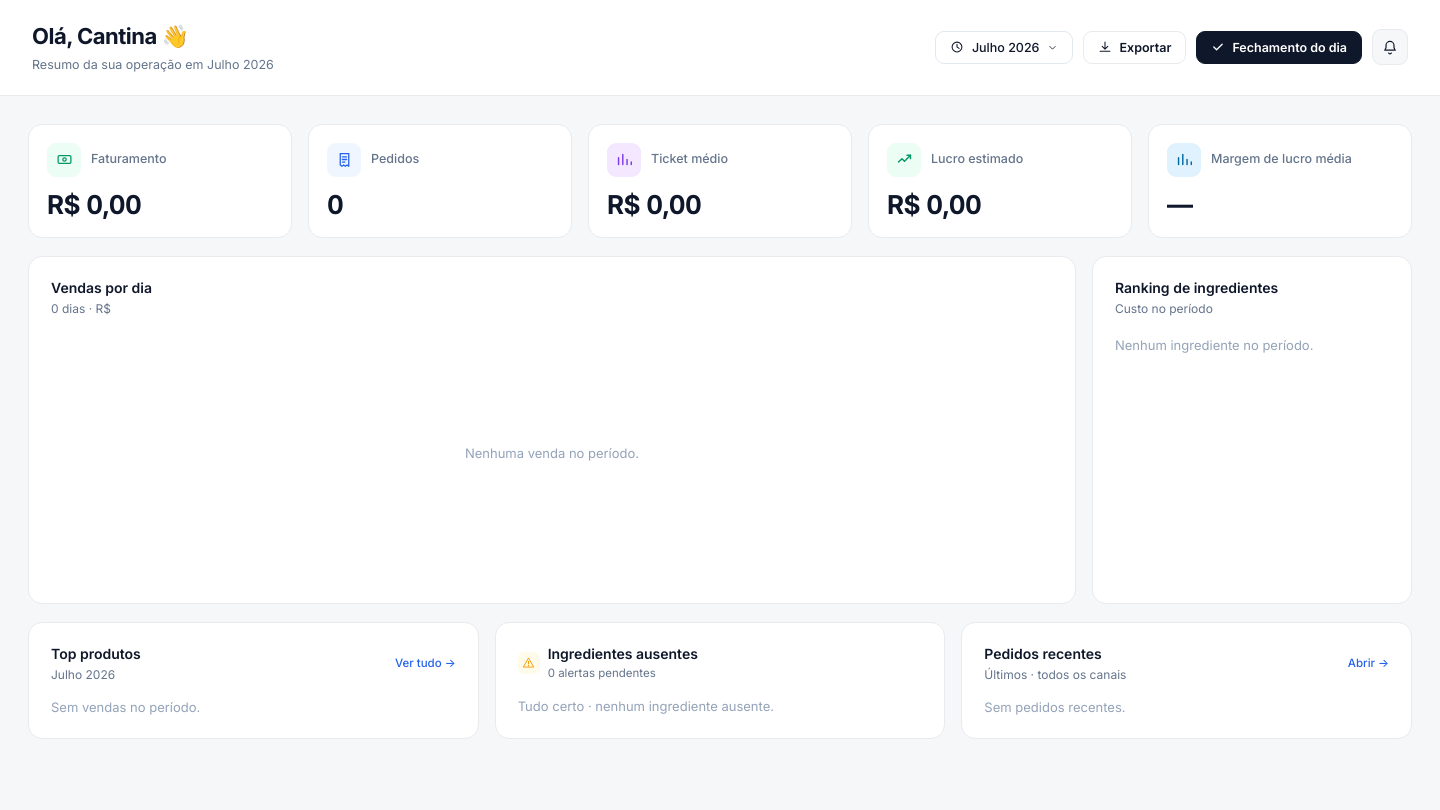
Scenario: DashboardView — seletor de período › intervalo personalizado › o subtítulo passa a exibir o intervalo selecionado
Click the button with test id "period-picker-toggle" at [1004, 47], box [935,31,1074,64]
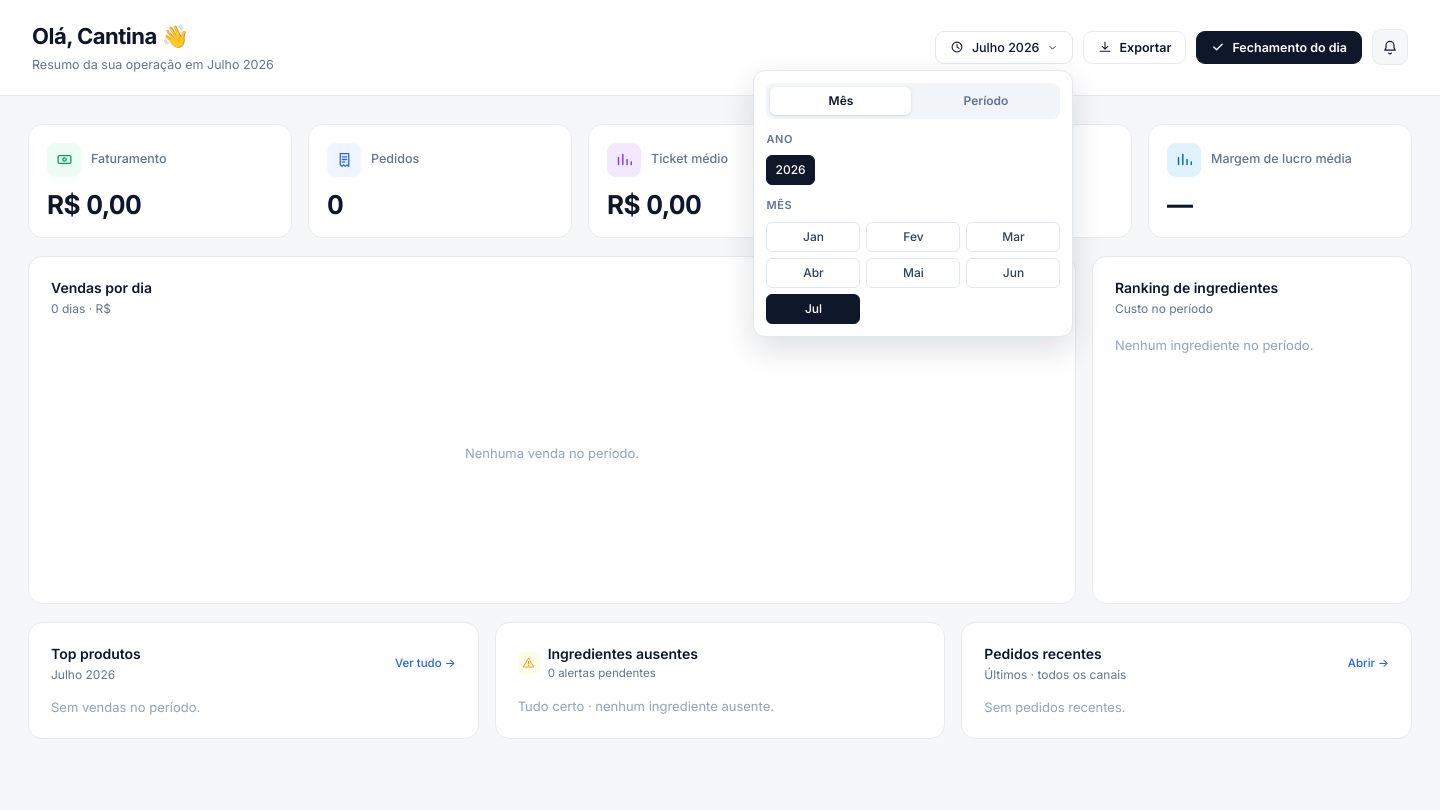
Click the button with test id "period-tab-custom" at [986, 101], box [916,87,1056,115]
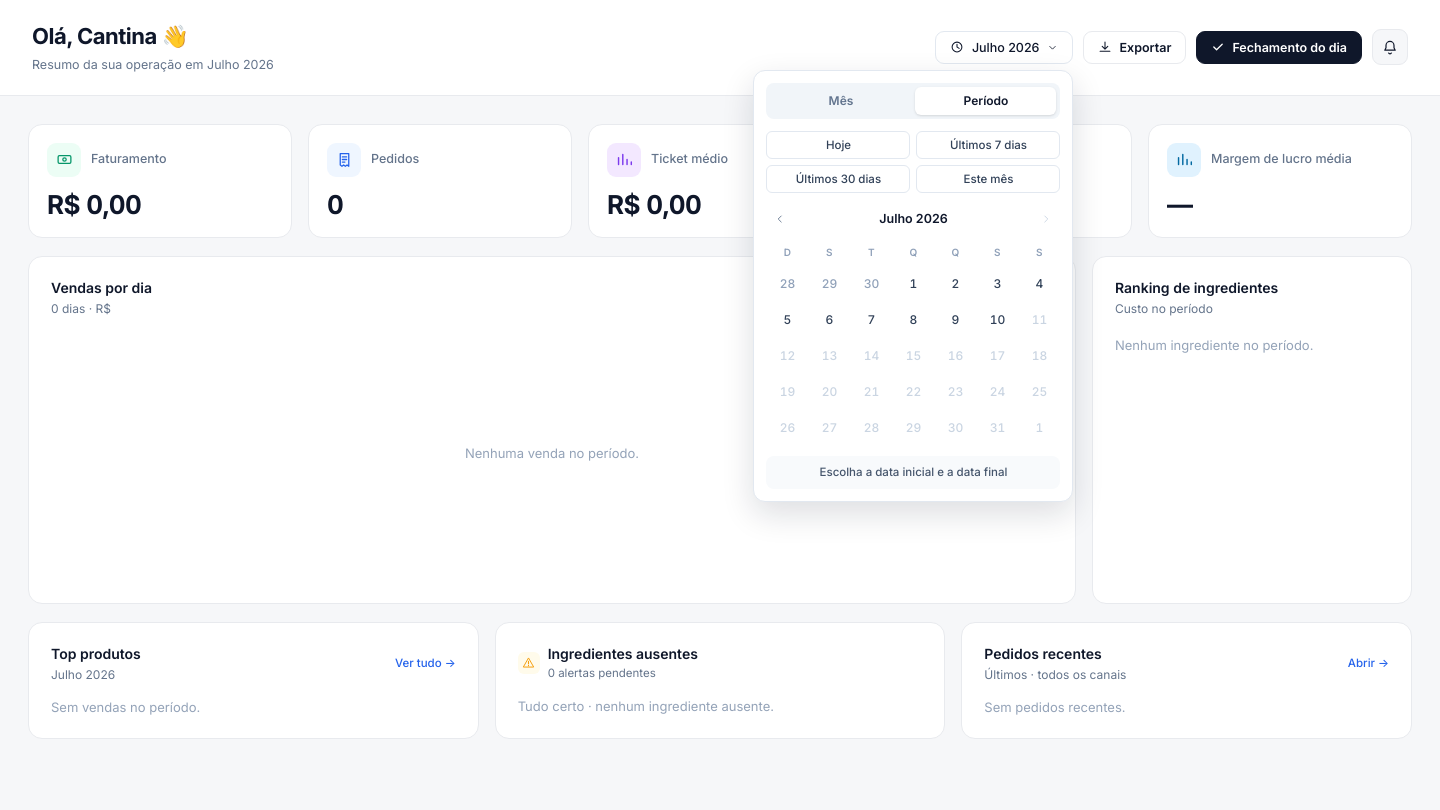
Click the button with test id "period-calendar-prev" at [780, 219], box [766,205,794,233]
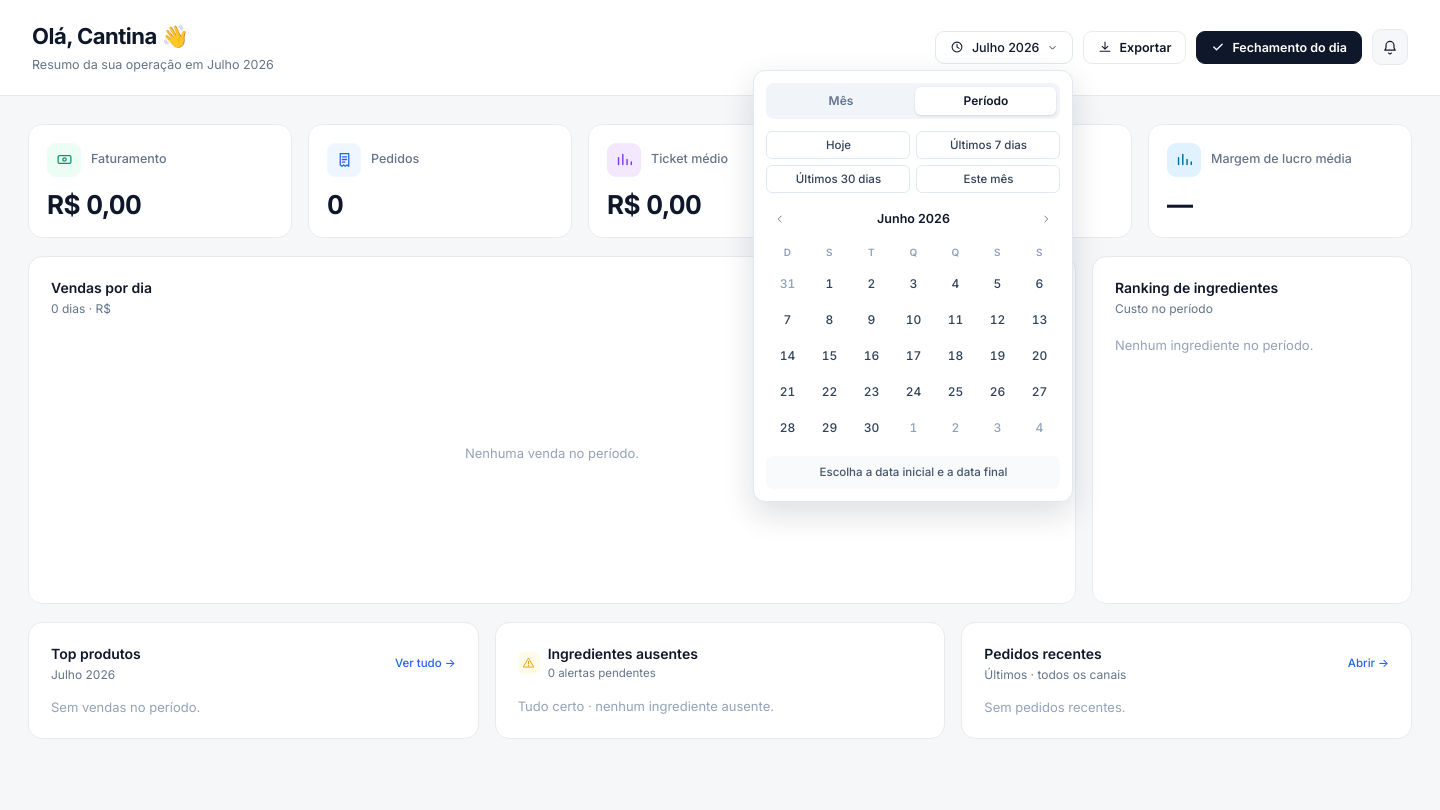
Click the button with test id "period-day-2026-06-16" at [872, 356], box [856,340,888,372]
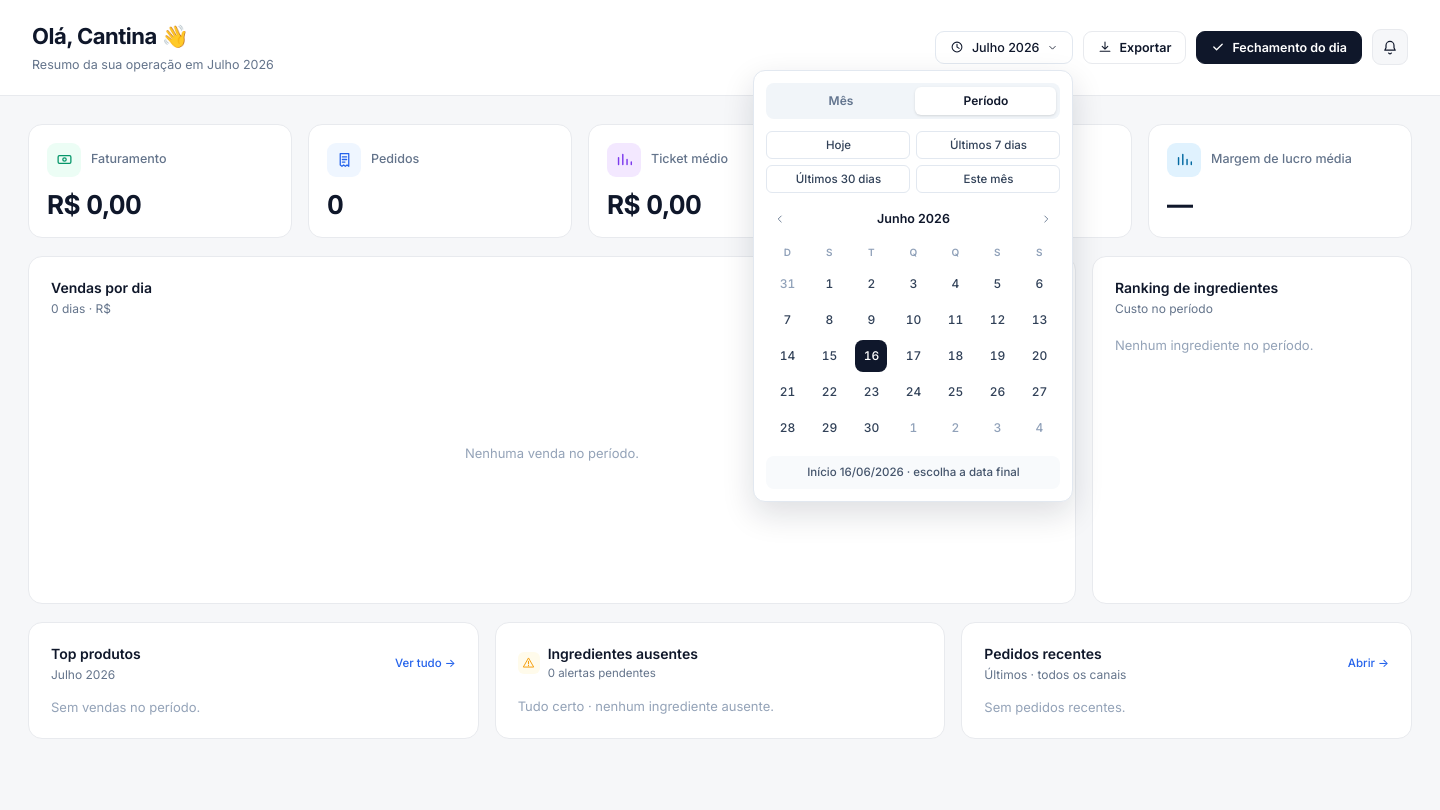
Click the button with test id "period-calendar-next" at [1046, 219], box [1032,205,1060,233]
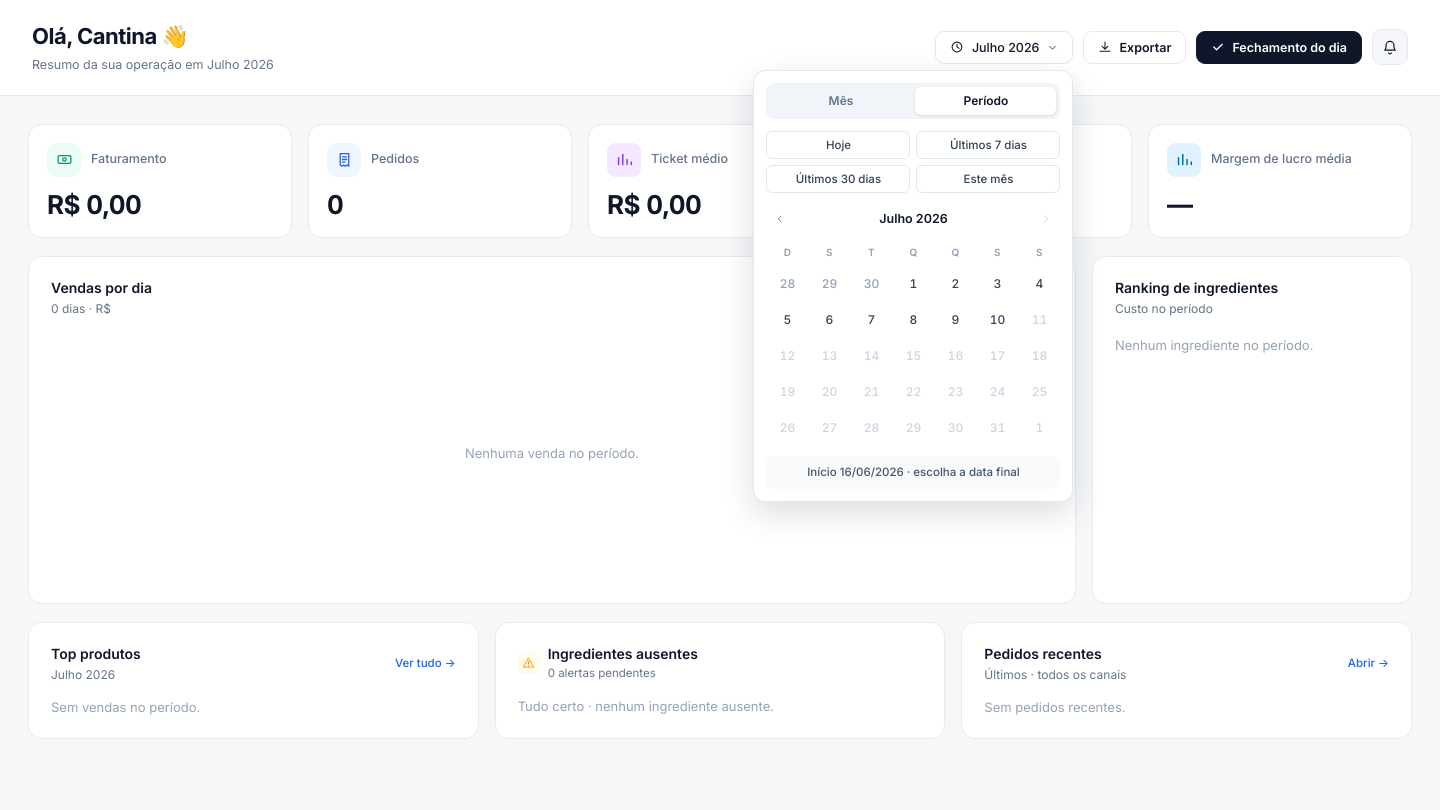
Click the button with test id "period-day-2026-07-07" at [872, 320], box [856,304,888,336]
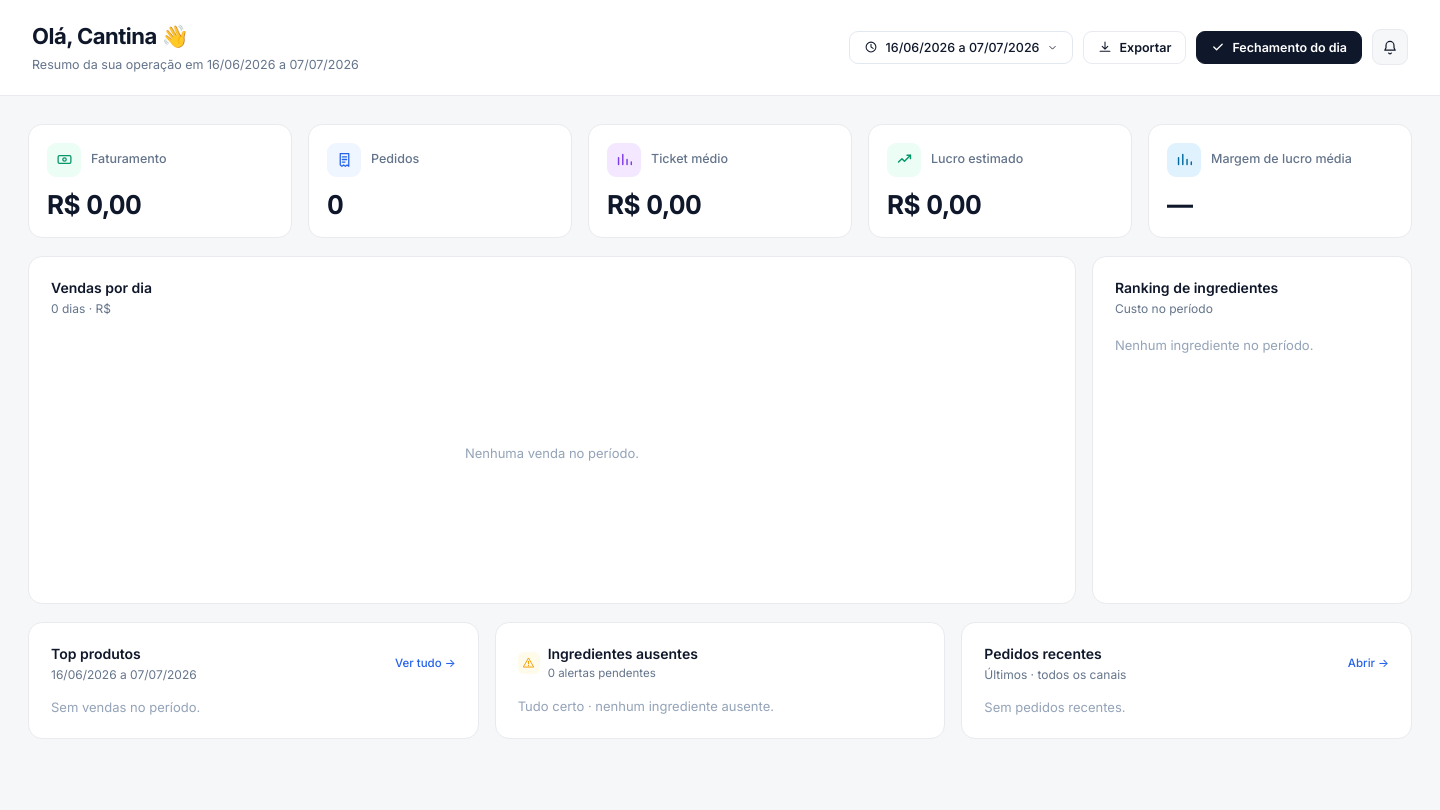
Expected: the text "16/06/2026 a 07/07/2026" is shown, [32,57,359,72]
